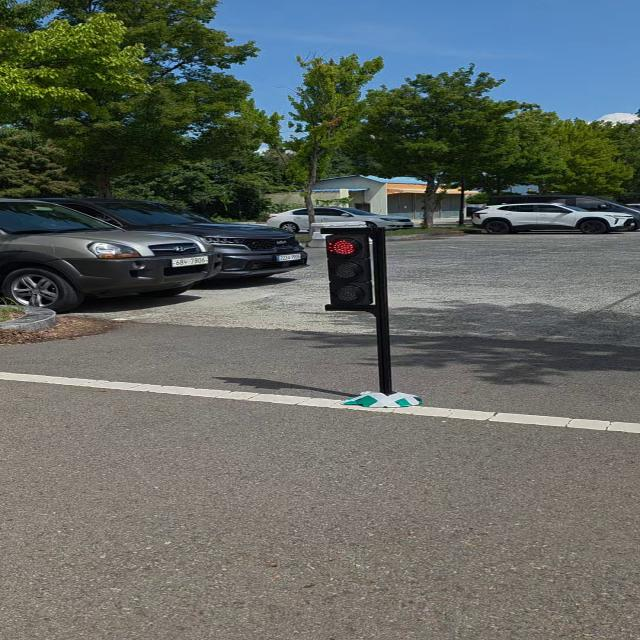red: (323, 229, 372, 312)
